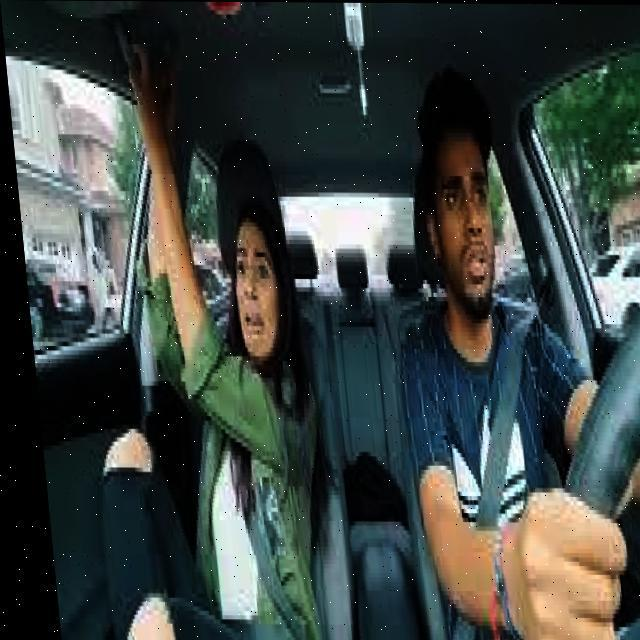seatbelt: (390, 278, 557, 532)
